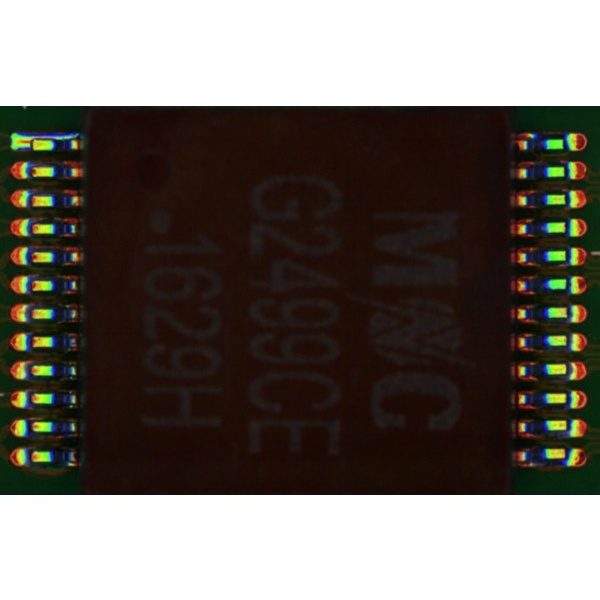Bad_podu: (18, 138, 39, 145)
Bad_qiaojiao: (32, 130, 79, 139)
